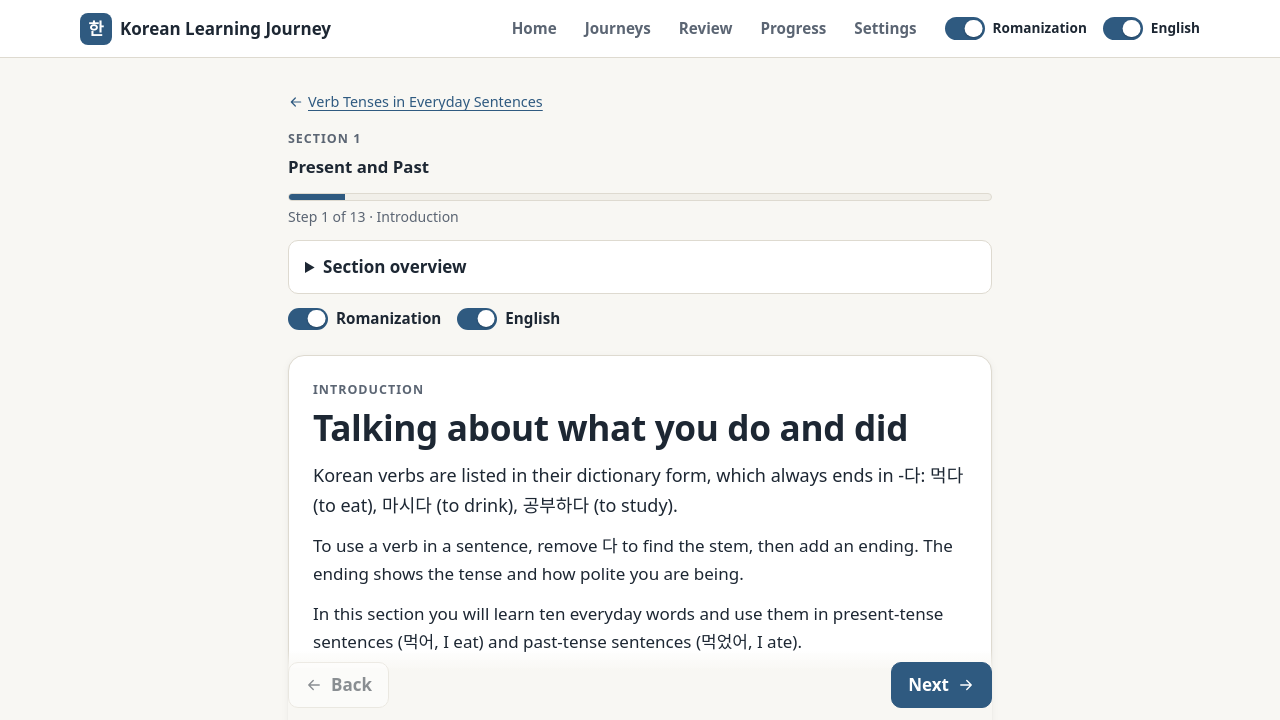
Test: lesson reader › navigates with Next and saves position and completion by stable ID
This screenshot has width=1280, height=720.
Click the button "Next": point(942, 685) top-left (891, 662), bottom-right (992, 708)
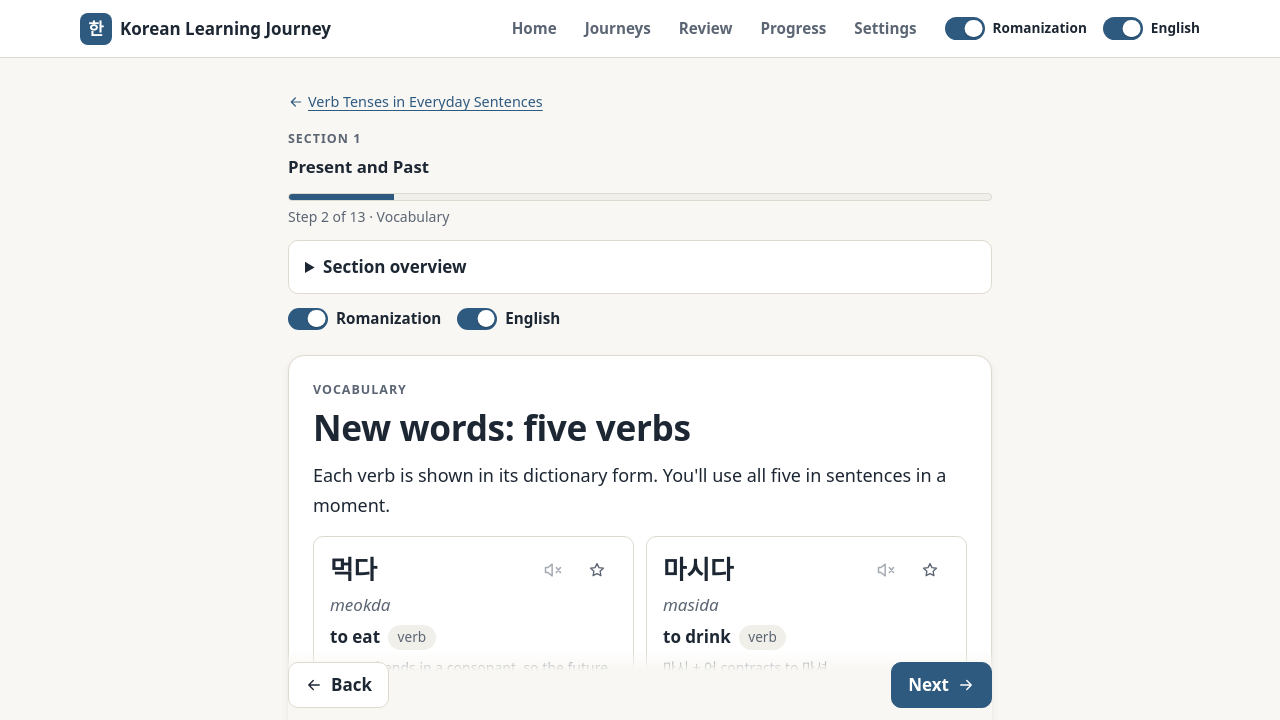
expect the heading "New words: five verbs" is shown: met, box top-left (313, 403), bottom-right (691, 451)
